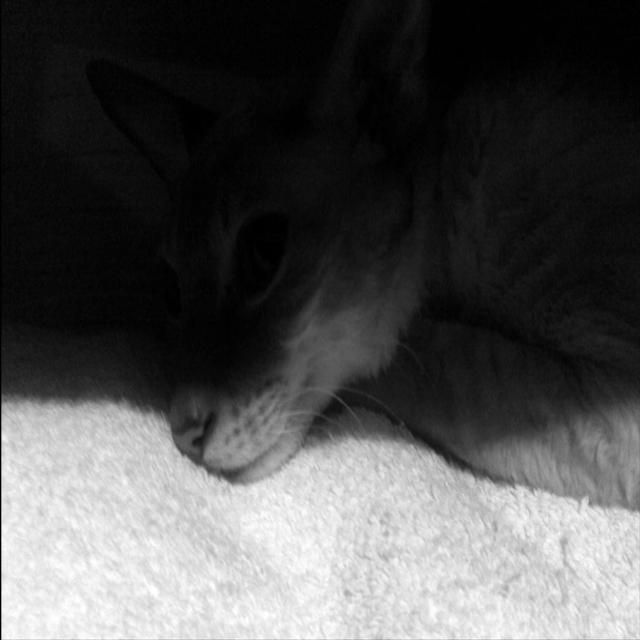Cat: (74, 4, 640, 483)
